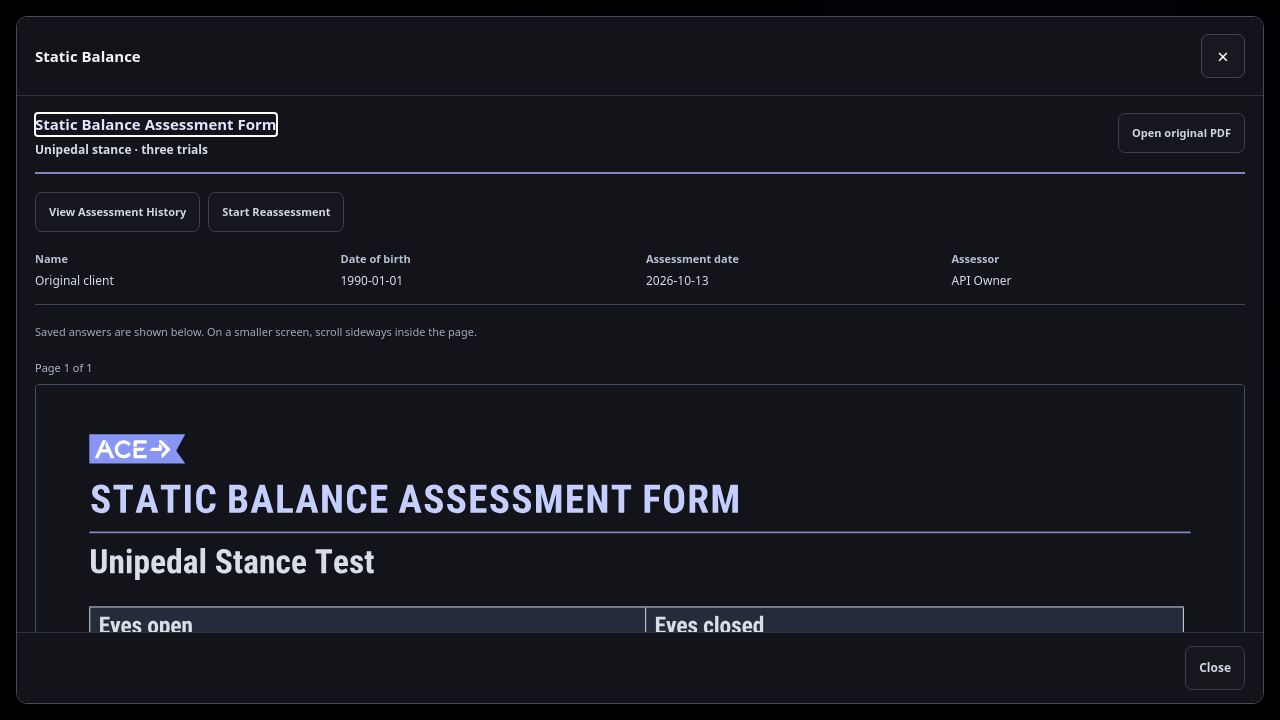
Test: opens occasion and immutable revision history without exposing editing controls
The width and height of the screenshot is (1280, 720).
Click the button "View Assessment History": (118, 212) [35, 192, 200, 232]
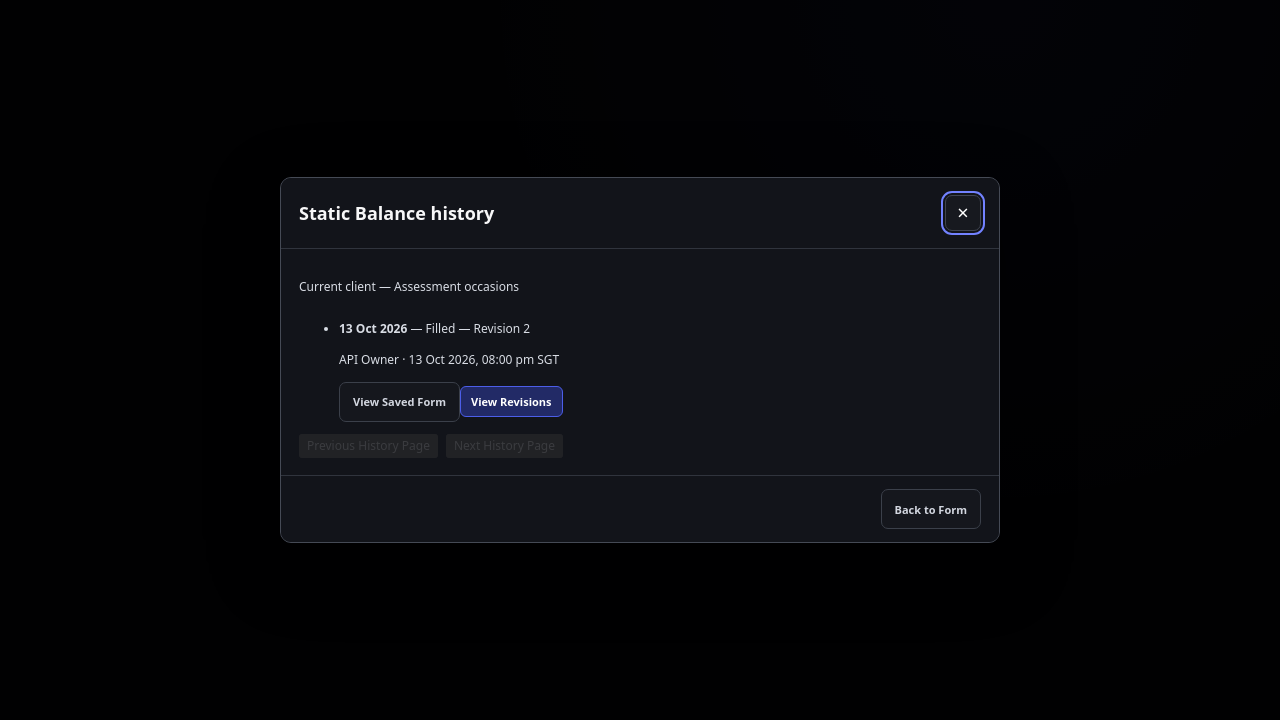
Click the button "View Revisions": (511, 402) [460, 386, 562, 417]
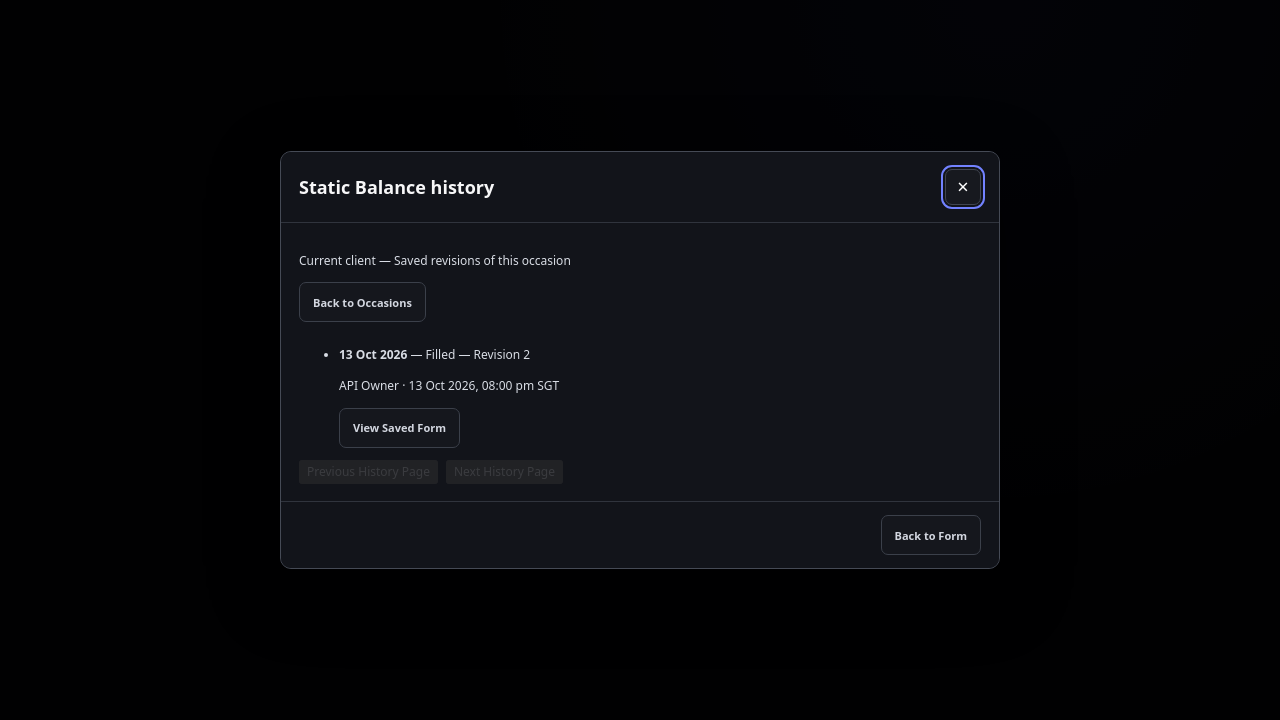
Click the button "View Saved Form": (400, 428) [339, 408, 460, 448]
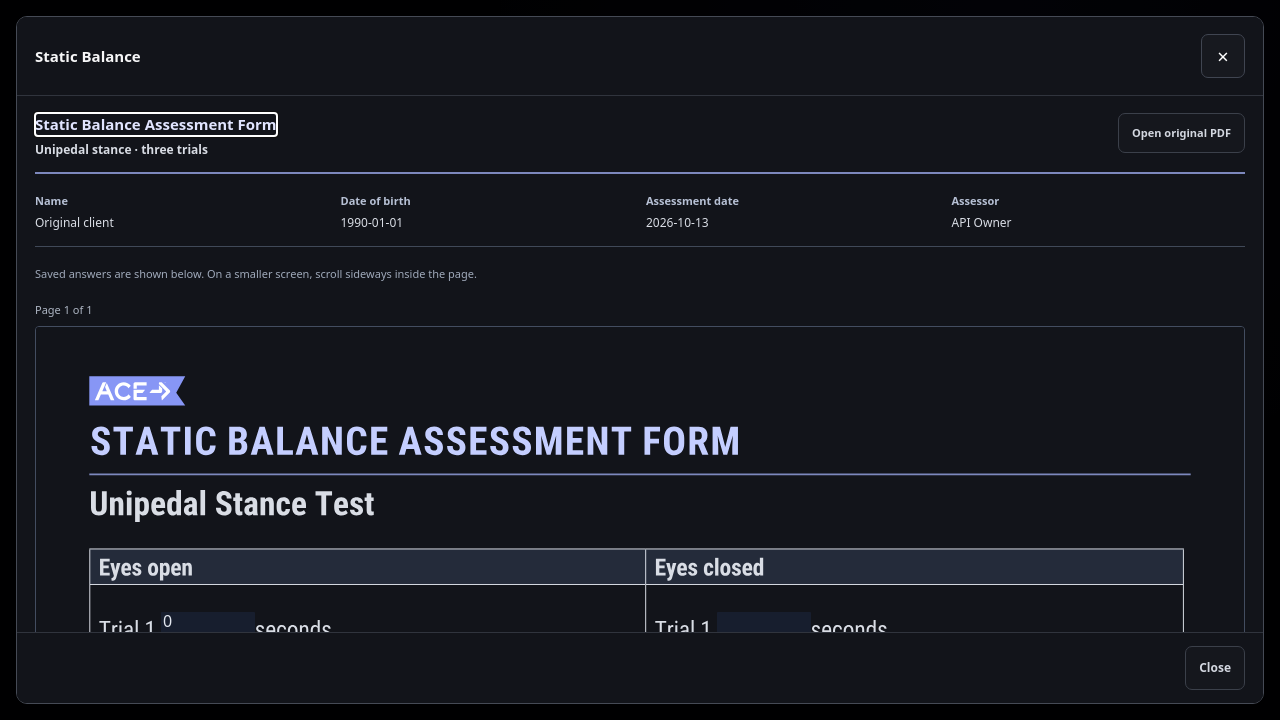
Expected: the text "Original client" is shown, [35, 214, 114, 231]
